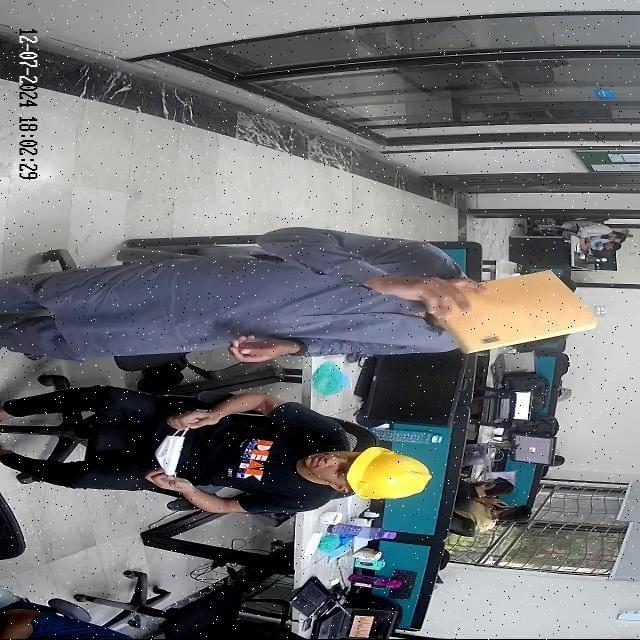no_apron: (366, 268, 490, 314), (227, 326, 305, 369), (142, 465, 190, 504), (166, 401, 217, 433)
no_hairnet: (299, 447, 341, 487)
